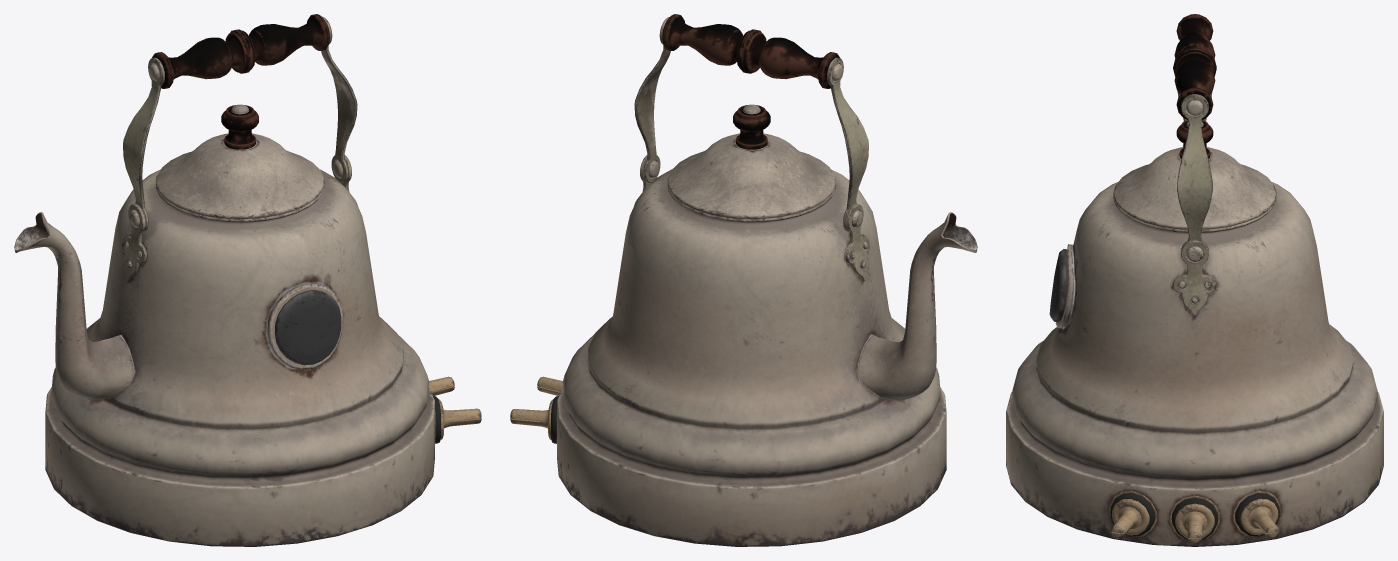
The model's file is vintage_electric_kettle.gltf.
The picture shows the model from 3 angles, left to right: view 1: azimuth 30°, elevation 25°; view 2: azimuth 150°, elevation 25°; view 3: azimuth 270°, elevation 25°; orthographic projection. The views are drawn at different scales.
Visible parts, largest first — view 1: vintage_electric_kettle; view 2: vintage_electric_kettle; view 3: vintage_electric_kettle.
Boxes of the visible parts, x1,y1,x2,y2 form: vintage_electric_kettle: (14, 14, 481, 546); vintage_electric_kettle: (510, 14, 977, 546); vintage_electric_kettle: (1006, 14, 1383, 546).
Size of the model in its own units: 0.3209 by 0.3047 by 0.2486.
Materials: 2 (2 with a texture image).
